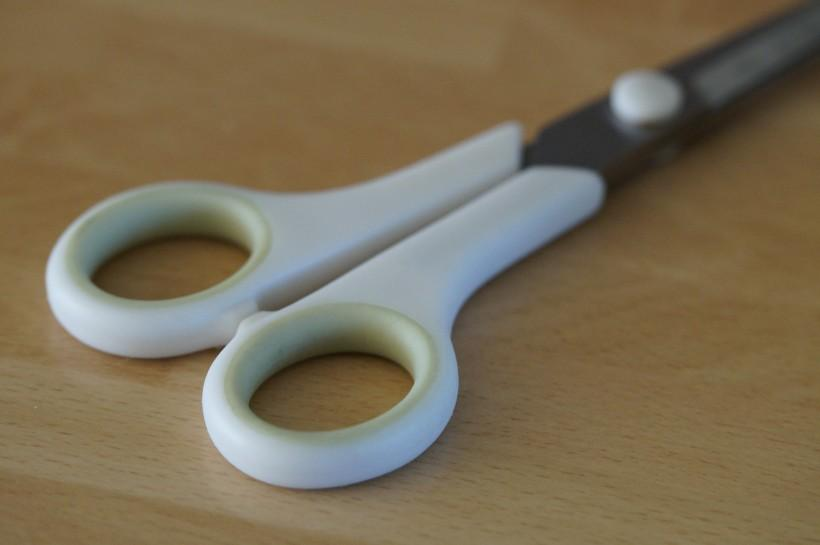scissor: (132, 1, 811, 483)
